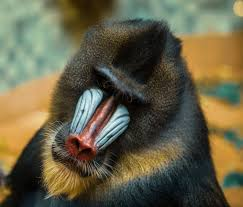Mandrill: (44, 20, 214, 201)
